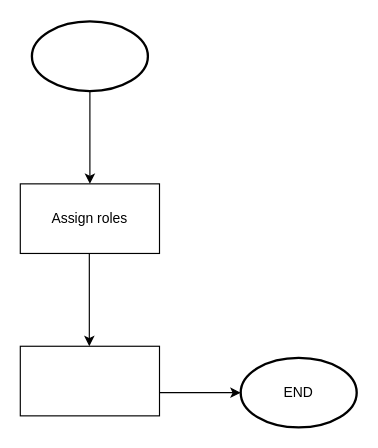
This 378x448 diagram has some shape labels left out. The shapes that lost their labels are listed below. From the top down, each one's box as (x1, y1, x2, y2) in pixels, then its label:
(30, 20, 148, 92): START
(19, 345, 160, 416): Compile ratings/reports
